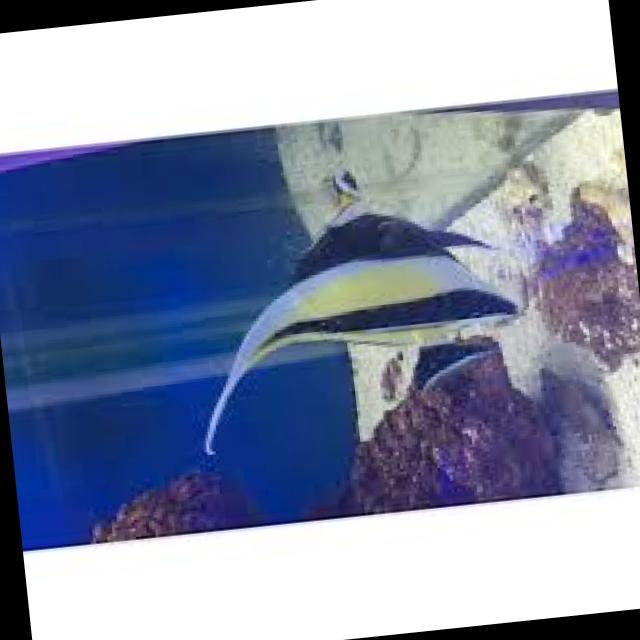MorishIdol: (170, 153, 539, 460)
